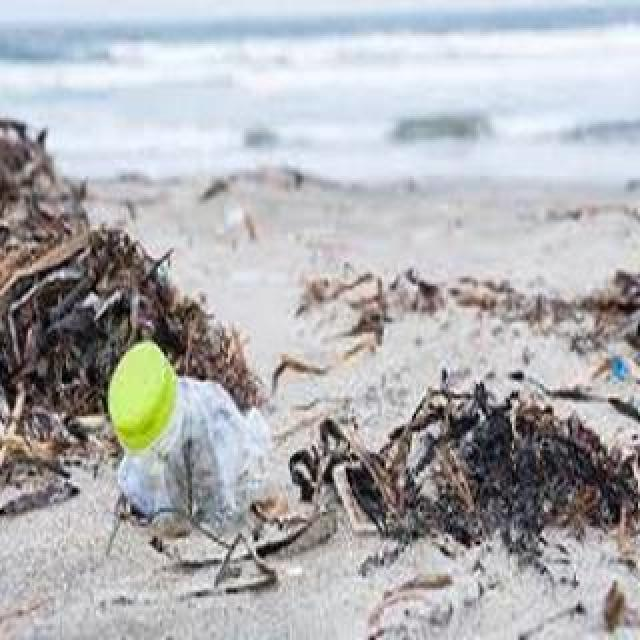Pet_Bottle: (91, 339, 291, 537)
